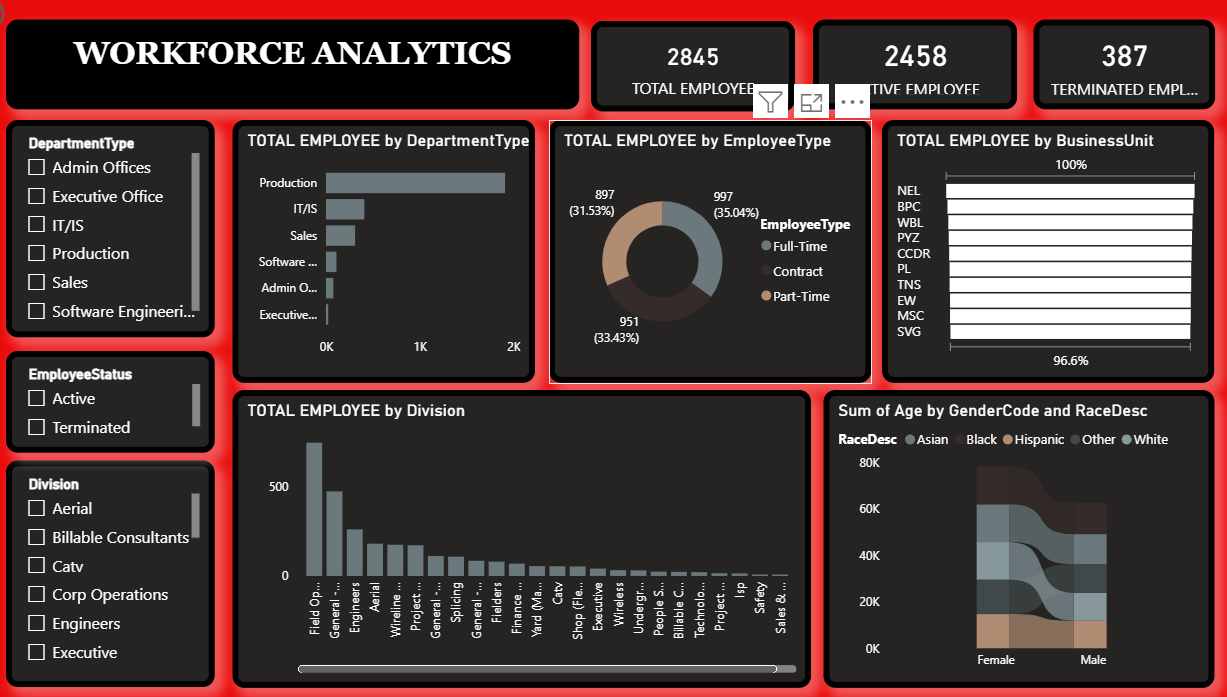

Layout of this report page (visuals, bound fields, positions):
{"tool":"powerbi","page":{"name":"Workforce Analytics","canvas":[1280,720],"ordinal":1},"visuals":[{"type":"shape","box":[0,0,1279.5,719.2],"z":0},{"type":"textbox","box":[36.3,25.7,578.4,90.9],"z":1000},{"type":"card","fields":{"Values":["Cleaned_HR_Data_Analysis.TOTAL EMPLOYEE"]},"box":[627.3,26.6,205.8,91.3],"z":2000},{"type":"card","fields":{"Values":["Cleaned_HR_Data_Analysis.TERMINATED EMPLOYEE"]},"box":[1073.6,25.7,183.2,90.9],"z":3000},{"type":"card","fields":{"Values":["Cleaned_HR_Data_Analysis.ACTIVE EMPLOYEE"]},"box":[850.6,26.3,206.1,90.6],"z":4000},{"type":"actionButton","box":[0,0,100,40],"z":5000},{"type":"slicer","fields":{"Values":["Cleaned_HR_Data_Analysis.DepartmentType"]},"box":[36.3,127.2,210.5,219.6],"z":6000},{"type":"slicer","fields":{"Values":["Cleaned_HR_Data_Analysis.Division"]},"box":[36.3,470.9,210.5,228.6],"z":7000},{"type":"slicer","fields":{"Values":["Cleaned_HR_Data_Analysis.EmployeeStatus"]},"box":[36.5,360.1,210.8,102.9],"z":8000},{"type":"barChart","fields":{"Y":["Cleaned_HR_Data_Analysis.TOTAL EMPLOYEE"],"Category":["Cleaned_HR_Data_Analysis.DepartmentType"]},"box":[265.5,127.8,305.3,265.5],"z":9000},{"type":"donutChart","fields":{"Y":["Cleaned_HR_Data_Analysis.TOTAL EMPLOYEE"],"Category":["Cleaned_HR_Data_Analysis.EmployeeType"]},"box":[584.1,127.8,325.3,265.5],"z":10000},{"type":"funnel","fields":{"Y":["Cleaned_HR_Data_Analysis.TOTAL EMPLOYEE"],"Category":["Cleaned_HR_Data_Analysis.BusinessUnit"]},"box":[921,127.8,335.2,265.5],"z":11000},{"type":"columnChart","fields":{"Y":["Cleaned_HR_Data_Analysis.TOTAL EMPLOYEE"],"Category":["Cleaned_HR_Data_Analysis.Division"]},"box":[265.5,399.9,584.1,300.4],"z":12000},{"type":"ribbonChart","fields":{"Category":["Cleaned_HR_Data_Analysis.GenderCode"],"Series":["Cleaned_HR_Data_Analysis.RaceDesc"],"Y":["Sum(Cleaned_HR_Data_Analysis.Age)"]},"box":[861.3,399.9,395,300.4],"z":13000}]}

Visuals, with their boxes on the page's 1280x720 design canvas (x1, y1, x2, y2). These are canvas units, not pixel positions in the 1227x697 screenshot, which may show the page scaled, cropped or inside an application window:
shape: [0,0,1280,719]
textbox: [36,26,615,117]
card - Cleaned_HR_Data_Analysis.TOTAL EMPLOYEE: [627,27,833,118]
card - Cleaned_HR_Data_Analysis.TERMINATED EMPLOYEE: [1074,26,1257,117]
card - Cleaned_HR_Data_Analysis.ACTIVE EMPLOYEE: [851,26,1057,117]
actionButton: [0,0,100,40]
slicer - Cleaned_HR_Data_Analysis.DepartmentType: [36,127,247,347]
slicer - Cleaned_HR_Data_Analysis.Division: [36,471,247,700]
slicer - Cleaned_HR_Data_Analysis.EmployeeStatus: [36,360,247,463]
barChart - Cleaned_HR_Data_Analysis.TOTAL EMPLOYEE x Cleaned_HR_Data_Analysis.DepartmentType: [266,128,571,393]
donutChart - Cleaned_HR_Data_Analysis.TOTAL EMPLOYEE x Cleaned_HR_Data_Analysis.EmployeeType: [584,128,909,393]
funnel - Cleaned_HR_Data_Analysis.TOTAL EMPLOYEE x Cleaned_HR_Data_Analysis.BusinessUnit: [921,128,1256,393]
columnChart - Cleaned_HR_Data_Analysis.TOTAL EMPLOYEE x Cleaned_HR_Data_Analysis.Division: [266,400,850,700]
ribbonChart - Cleaned_HR_Data_Analysis.GenderCode x Cleaned_HR_Data_Analysis.RaceDesc: [861,400,1256,700]
